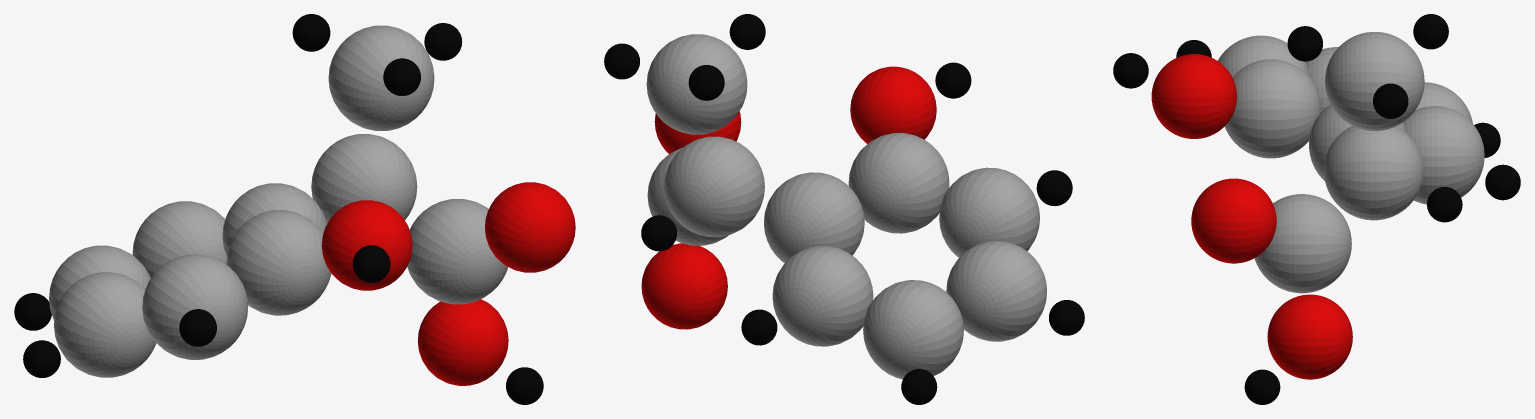
The model's file is Pyridoxine (Vitamin B6).glb.
The picture shows the model from 3 angles, left to right: view 1: azimuth 30°, elevation 25°; view 2: azimuth 150°, elevation 25°; view 3: azimuth 270°, elevation 25°; orthographic projection. The views are drawn at different scales.
Parts seen in each view (by area): view 1: world; view 2: world; view 3: world.
Part boxes in pixels (x1,y1,x2,y2): world: [14, 14, 575, 404]; world: [604, 14, 1084, 404]; world: [1113, 14, 1520, 404].
Bounding box in the file's own units: 7.53 × 5.13 × 5.73.
